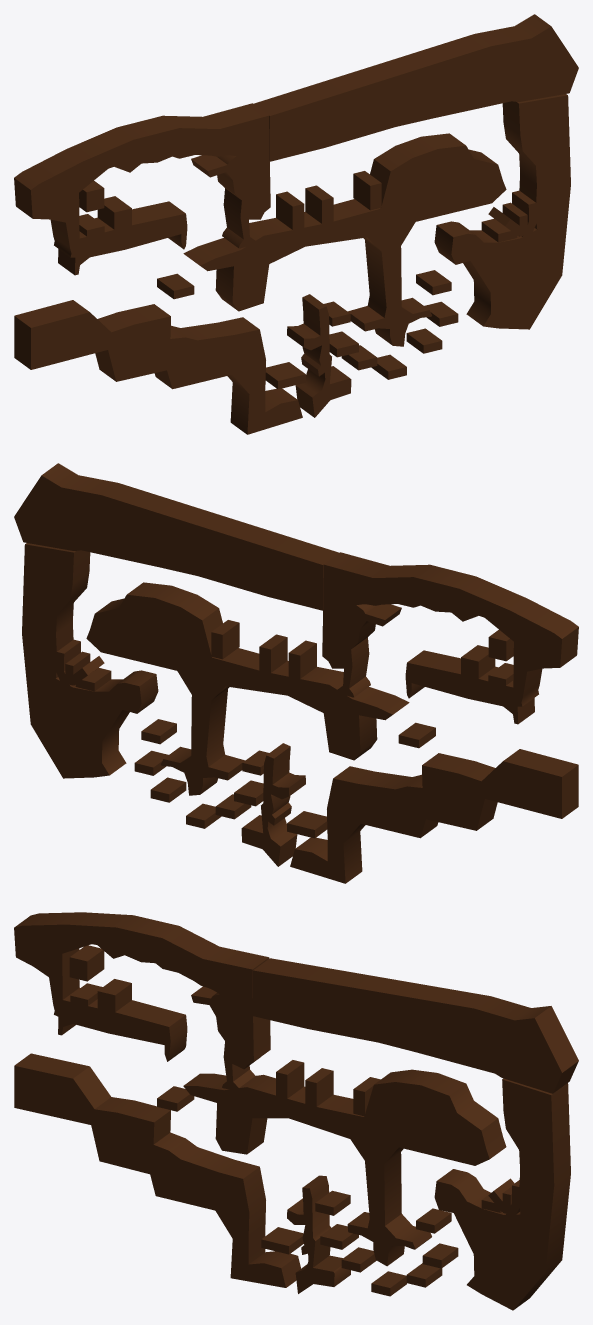
Rendered from forest_heim_level_01.FBX.
3 views of the same model, one above another, from view 1: azimuth 30°, elevation 25°; view 2: azimuth 150°, elevation 25°; view 3: azimuth 330°, elevation 25° (orthographic).
Parts seen in each view (by area): view 1: Line003; view 2: Line003; view 3: Line003.
Boxes of the visible parts, <box> form: Line003: <box>14,14,578,434</box>; Line003: <box>14,463,578,883</box>; Line003: <box>14,912,578,1310</box>.
Bounding box in the file's own units: 94.04 × 54.8 × 5.
